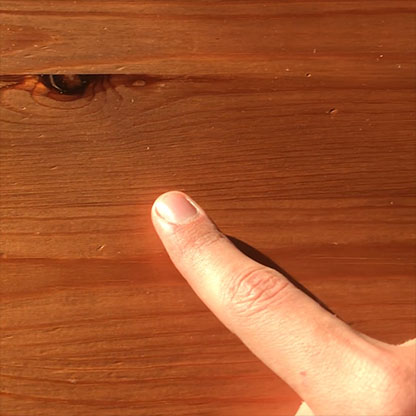fingertip: (139, 186, 214, 242)
